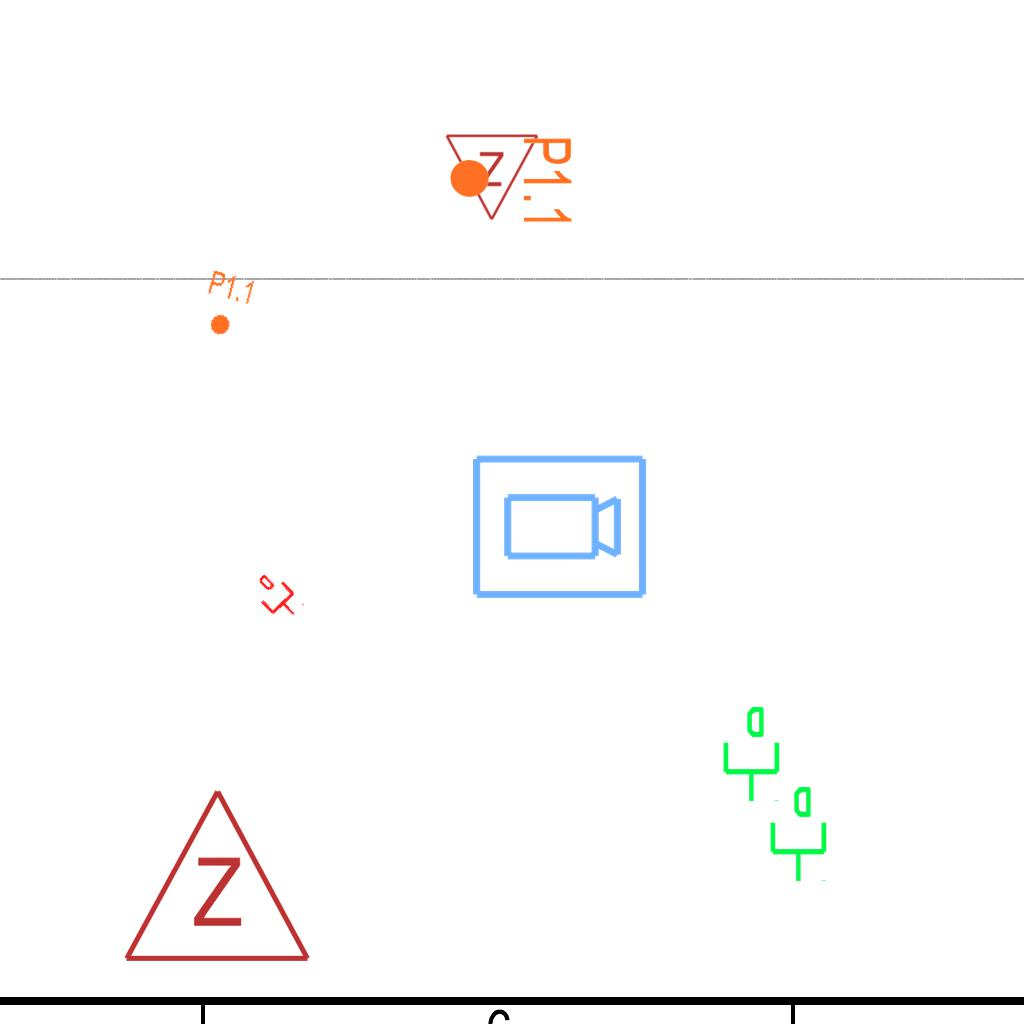Datenanschluss_einfach: (762, 784, 831, 884), (715, 704, 784, 804), (247, 567, 307, 627)
Downlight_LED_Einbauleuchten_Flur: (447, 135, 575, 228), (196, 268, 258, 342)
KFO_Kamera_mit_Festobjektiv: (468, 451, 650, 605)
Zimmersignalleuchte: (117, 776, 313, 976), (444, 127, 542, 227)
